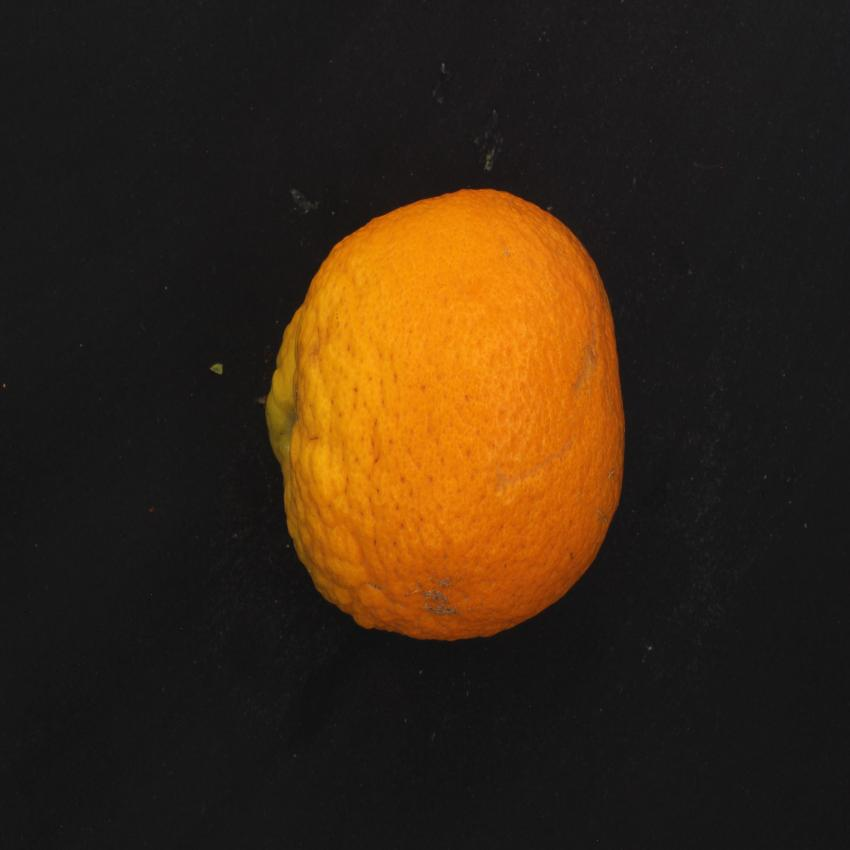Buen estado: (255, 179, 633, 656)
